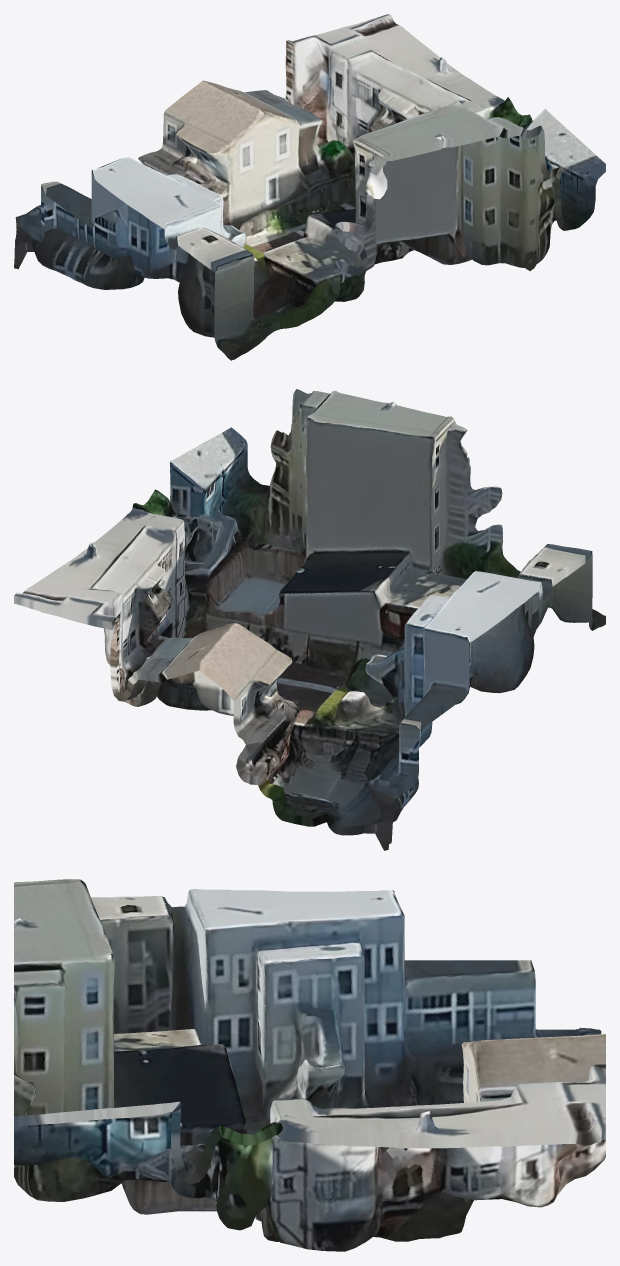
File: z20-167741-405194-h0-yup-uvflip-v3-world.glb
3 views of the same model, one above another, from view 1: azimuth 30°, elevation 25°; view 2: azimuth 150°, elevation 25°; view 3: azimuth 270°, elevation 25° (orthographic). The views are drawn at different scales.
Bounding box in the file's own units: 30.16 × 18.52 × 30.32.
Materials: 1 (1 with a texture image).
